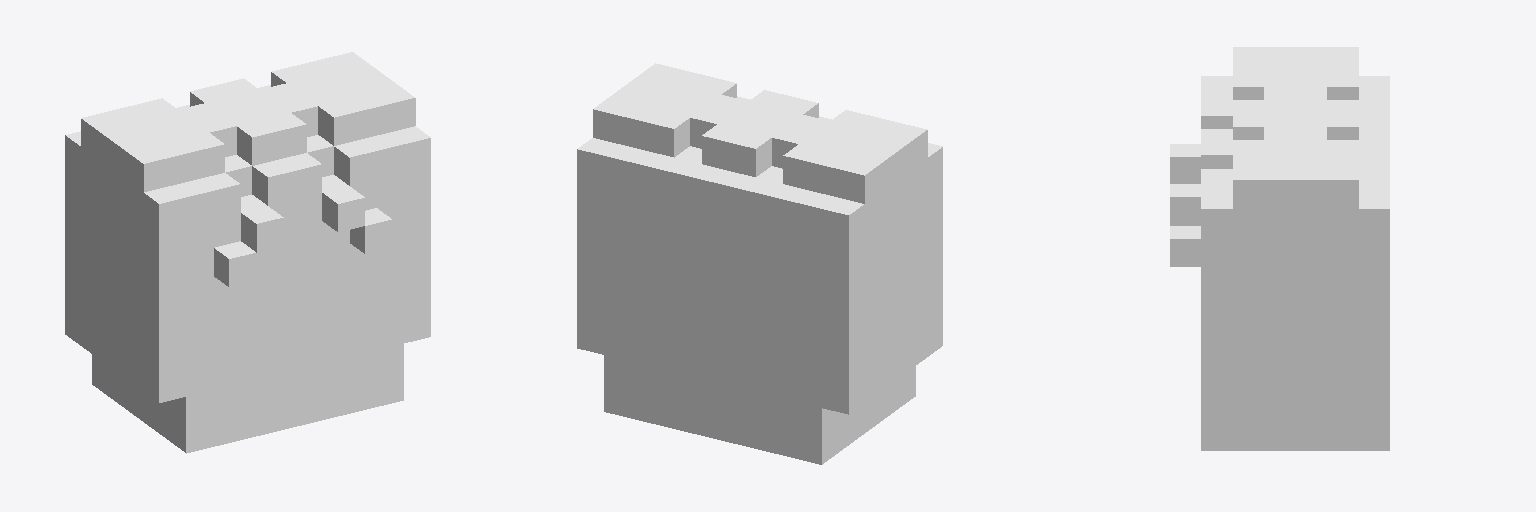
File: male-10.obj
The picture shows the model from 3 angles: view 1: azimuth 30°, elevation 25°; view 2: azimuth 150°, elevation 25°; view 3: azimuth 270°, elevation 25°; orthographic projection.
Visible parts, largest first — view 1: object 1; view 2: object 1; view 3: object 1.
Part boxes in pixels (x1,y1,x2,y2): object 1: (65, 52, 430, 453); object 1: (577, 63, 942, 464); object 1: (1170, 47, 1389, 450).
Size of the model in its own units: 1 by 1 by 0.7.